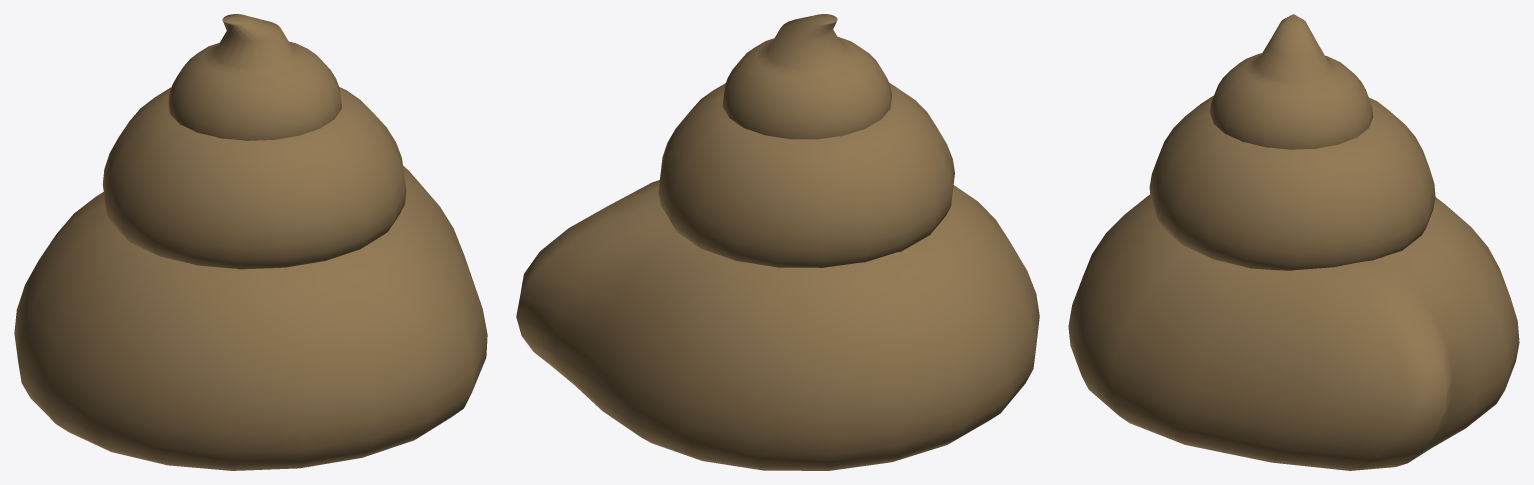
Rendered from definatelyNotPoop.fbx.
The picture shows the model from 3 angles, left to right: view 1: azimuth 30°, elevation 25°; view 2: azimuth 150°, elevation 25°; view 3: azimuth 270°, elevation 25°; orthographic projection. The views are drawn at different scales.
Visible parts, largest first — view 1: pSphere1, pSphere2, pSphere3; view 2: pSphere1, pSphere2, pSphere3; view 3: pSphere1, pSphere2, pSphere3.
Boxes of the visible parts, box(x1,y1,x2,y2) form: pSphere1: box(14, 166, 487, 470); pSphere2: box(102, 87, 406, 269); pSphere3: box(168, 14, 341, 140); pSphere1: box(516, 180, 1039, 470); pSphere2: box(658, 82, 954, 267); pSphere3: box(722, 14, 891, 139); pSphere1: box(1068, 194, 1519, 470); pSphere2: box(1149, 95, 1435, 270); pSphere3: box(1209, 14, 1373, 149).
Bounding box in the file's own units: 3.5 × 2.92 × 3.3.
